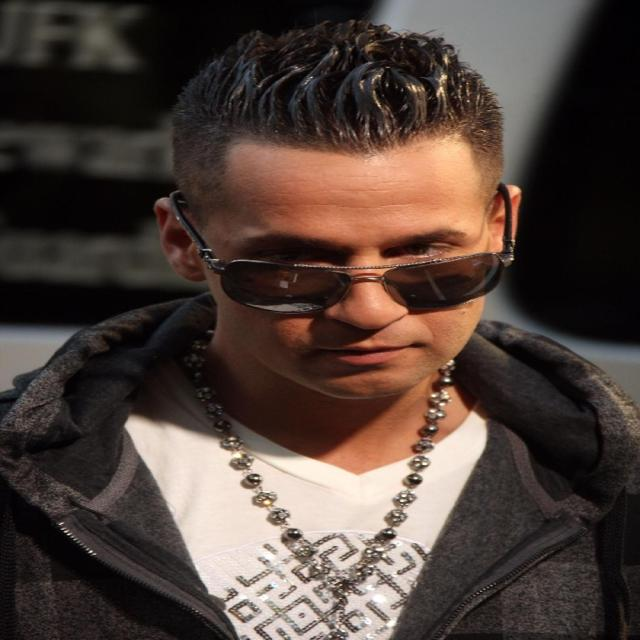Face: (208, 132, 502, 387)
